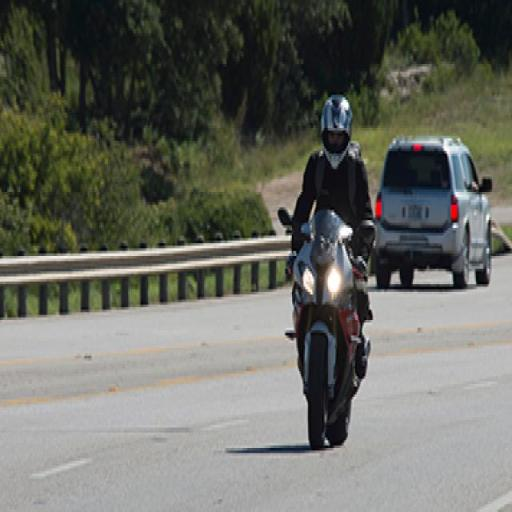Helmet: (314, 93, 360, 172)
Motor: (279, 207, 377, 452)
